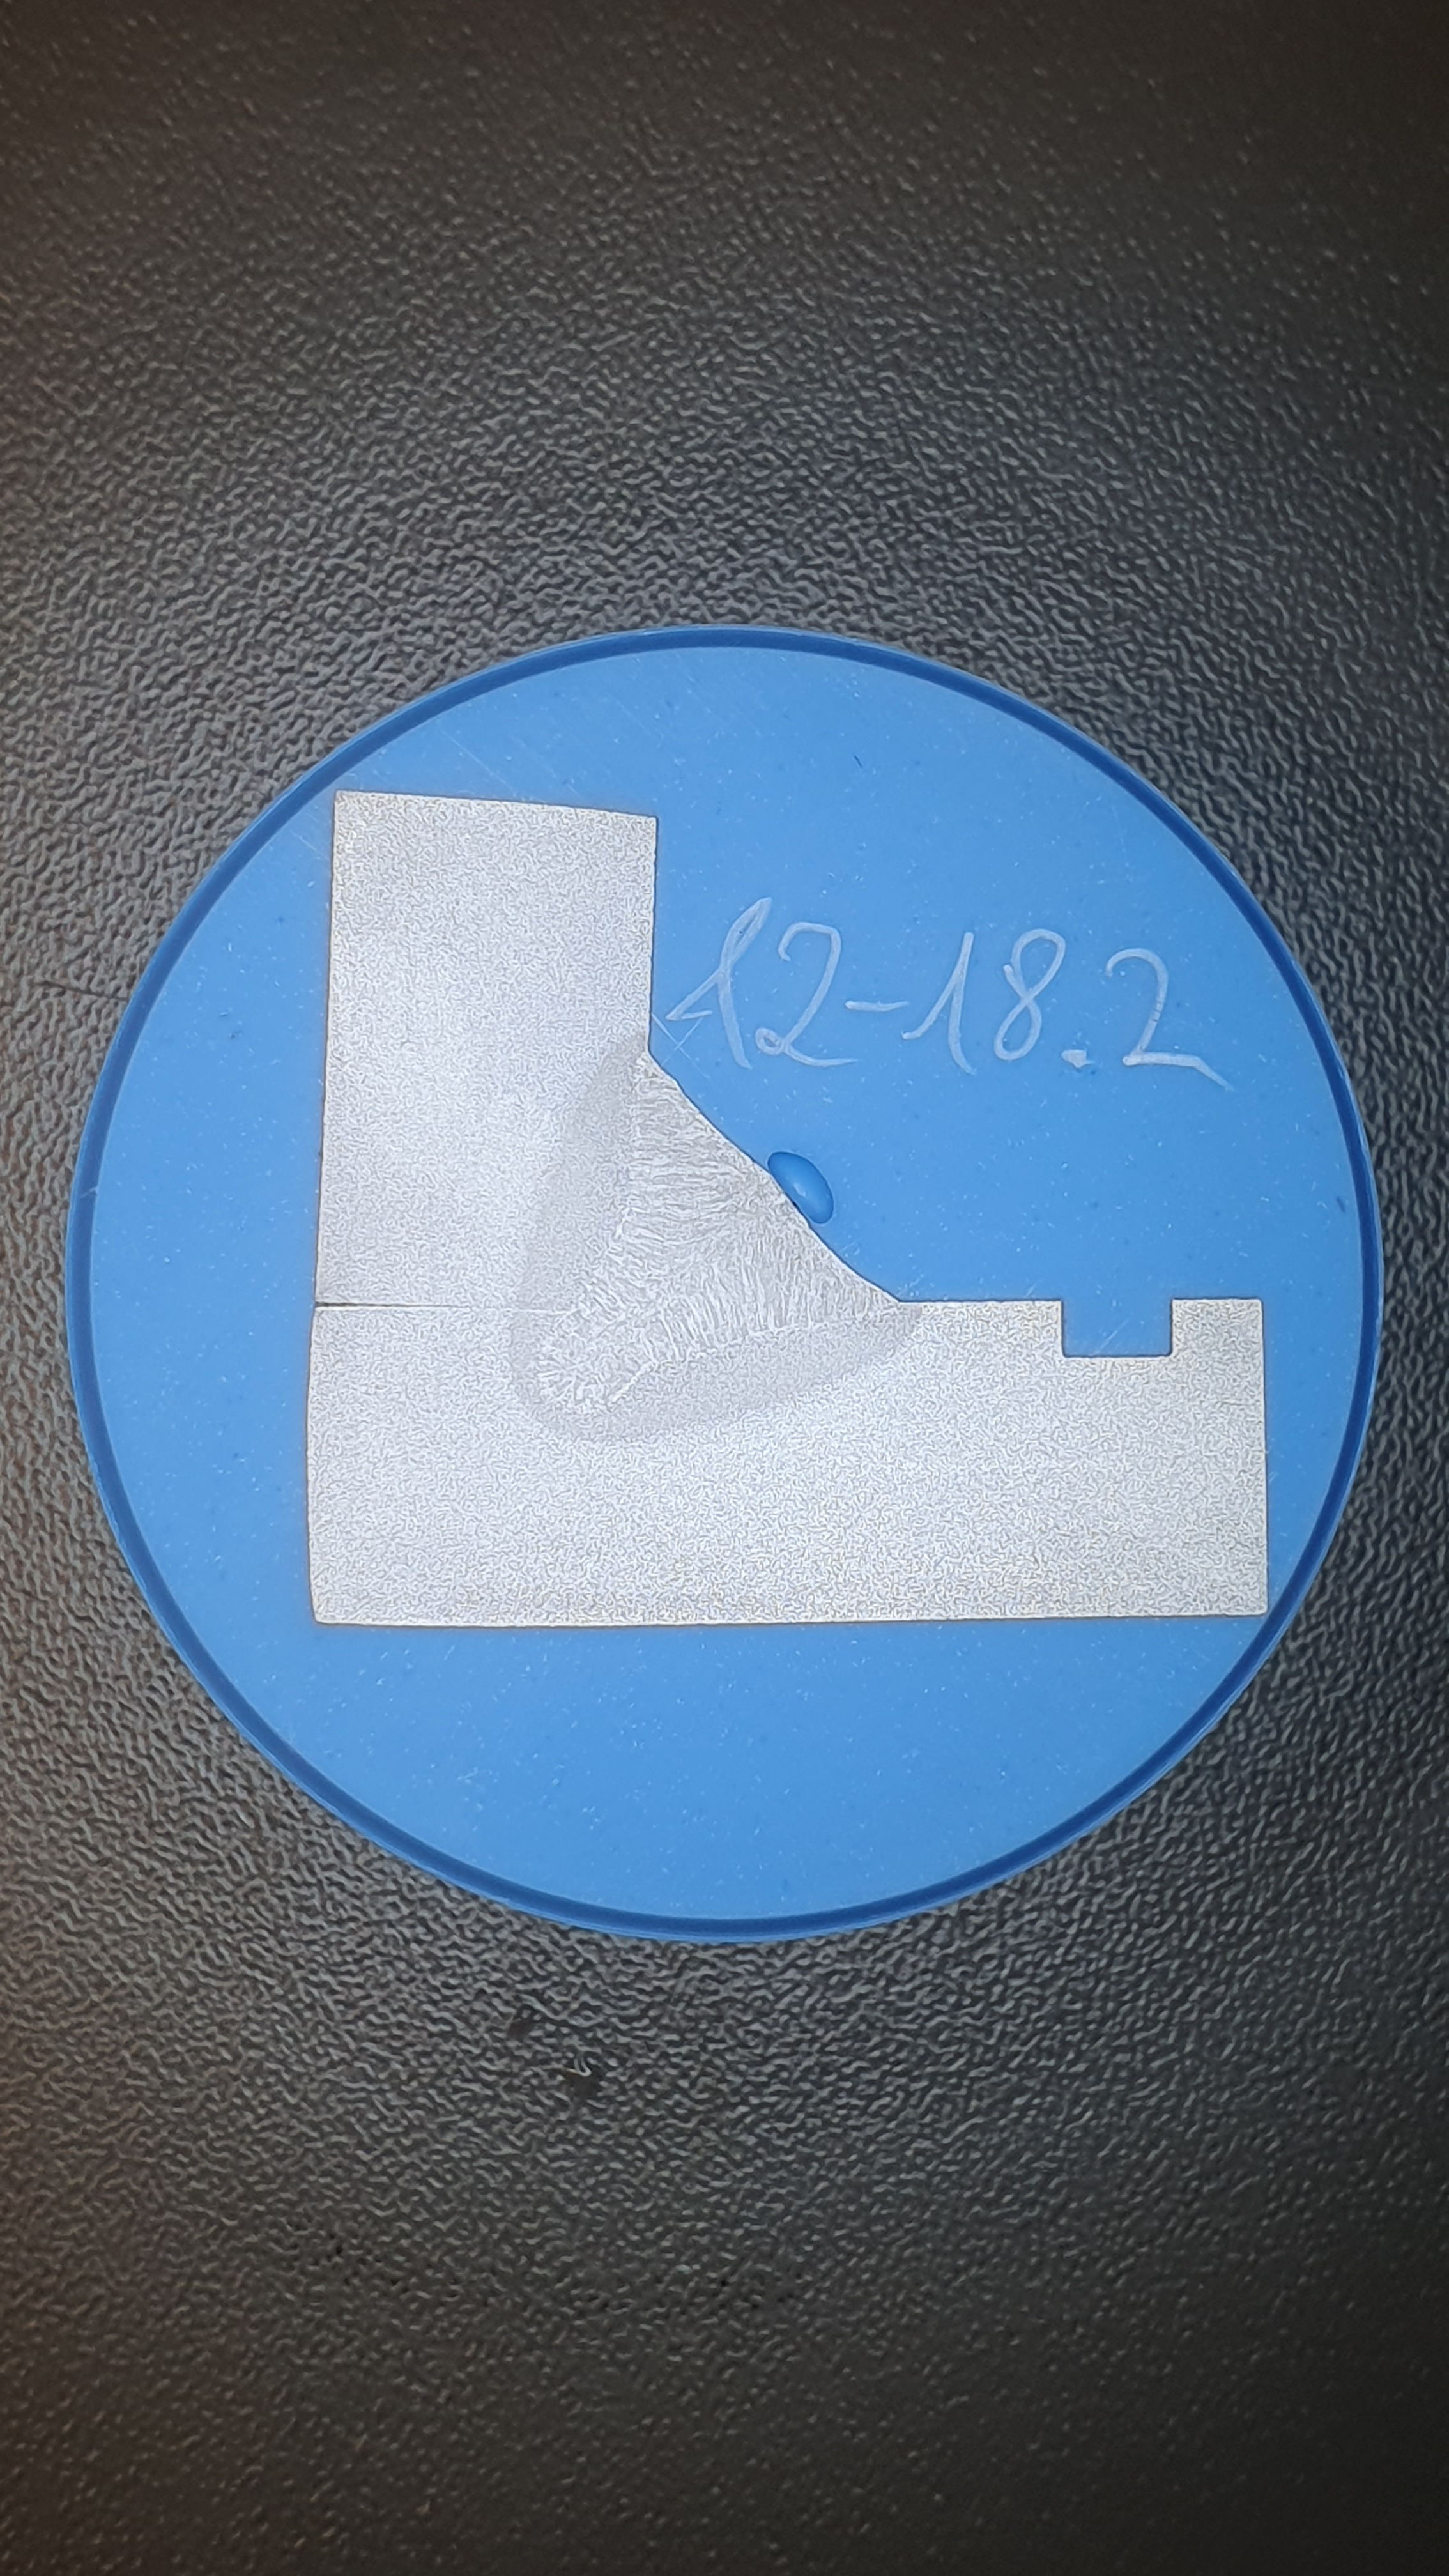Fusion: (534, 1049, 901, 1414)
Hintergrund: (90, 648, 1361, 1918)
Metall: (306, 789, 1269, 1628)
Nebenbereich: (506, 1021, 922, 1444)
